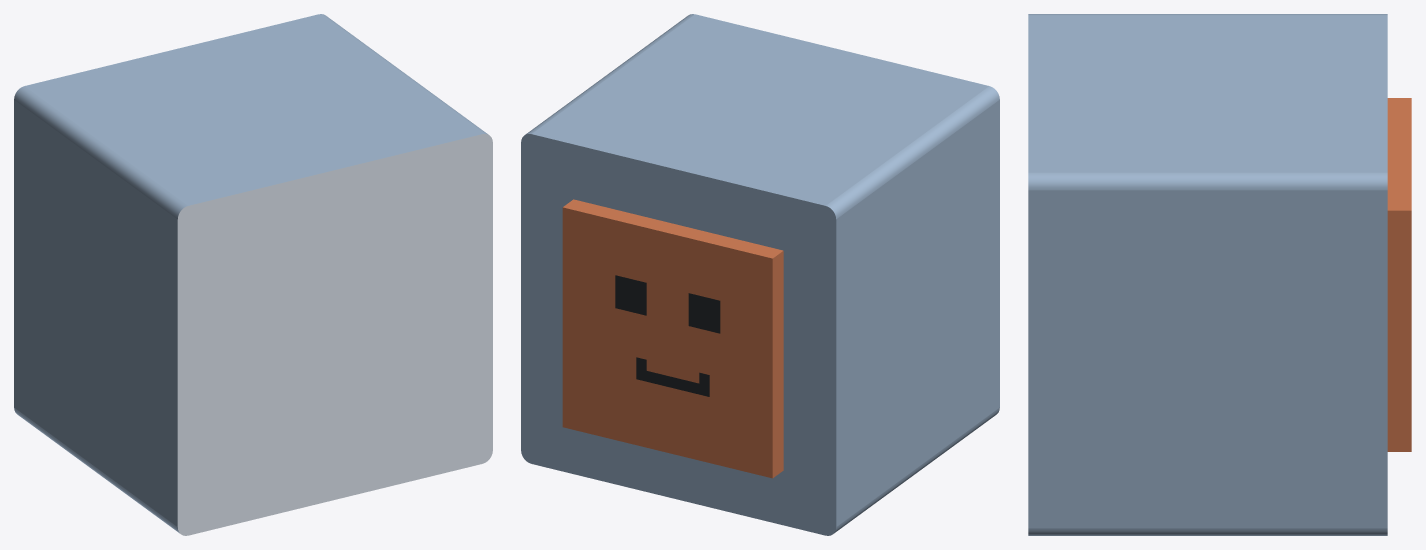
File: SheepV2.fbx
3 views of the same model, side by side, from view 1: azimuth 30°, elevation 25°; view 2: azimuth 150°, elevation 25°; view 3: azimuth 270°, elevation 25° (orthographic). The views are drawn at different scales.
Visible parts, largest first — view 1: generated; view 2: generated; view 3: generated.
Part boxes in pixels (x1,y1,x2,y2): generated: (14,14,492,535); generated: (521,14,999,535); generated: (1028,14,1411,535).
Size of the model in its own units: 15 by 15 by 14.4.
